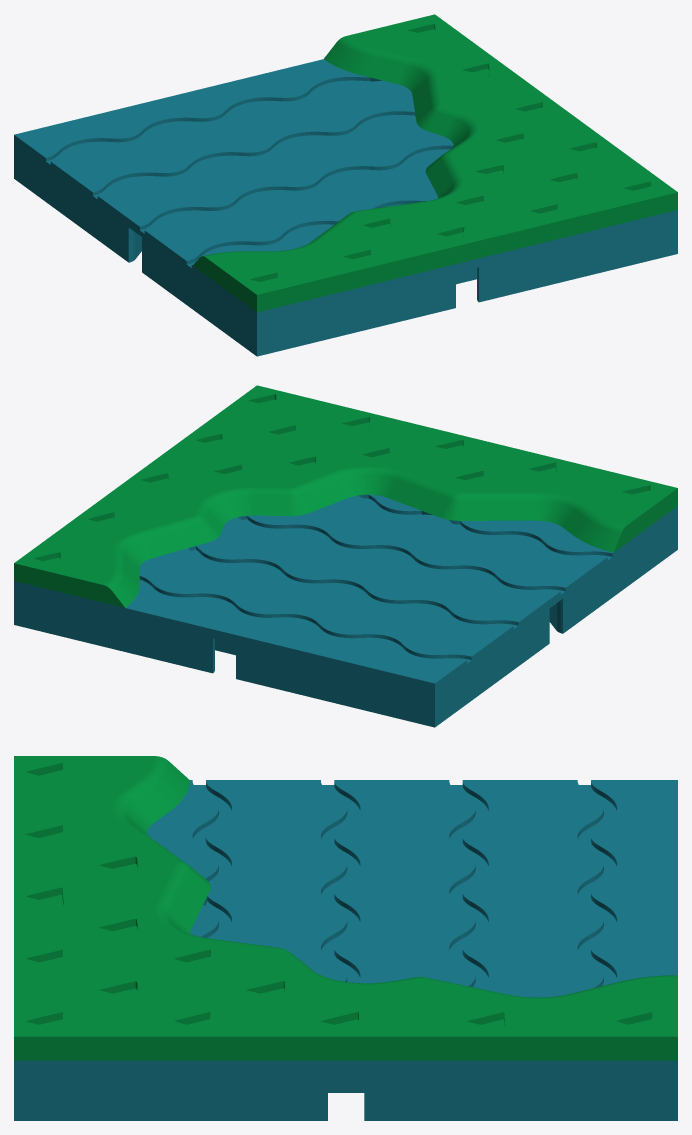
File: 5x5 Grass On Water Inner Corner.obj
3 views of the same model, one above another, from view 1: azimuth 30°, elevation 25°; view 2: azimuth 150°, elevation 25°; view 3: azimuth 270°, elevation 25° (orthographic). The views are drawn at different scales.
Parts seen in each view (by area): view 1: Körper1:1, Körper1; view 2: Körper1:1, Körper1; view 3: Körper1:1, Körper1.
Part boxes in pixels (left/top/right/bottom): Körper1:1: left=14, top=59, right=677, bottom=356; Körper1: left=193, top=14, right=677, bottom=312; Körper1:1: left=14, top=494, right=677, bottom=727; Körper1: left=14, top=385, right=677, bottom=607; Körper1:1: left=14, top=780, right=677, bottom=1120; Körper1: left=14, top=756, right=677, bottom=1060.
Size of the model in its own units: 50 by 7 by 50.
